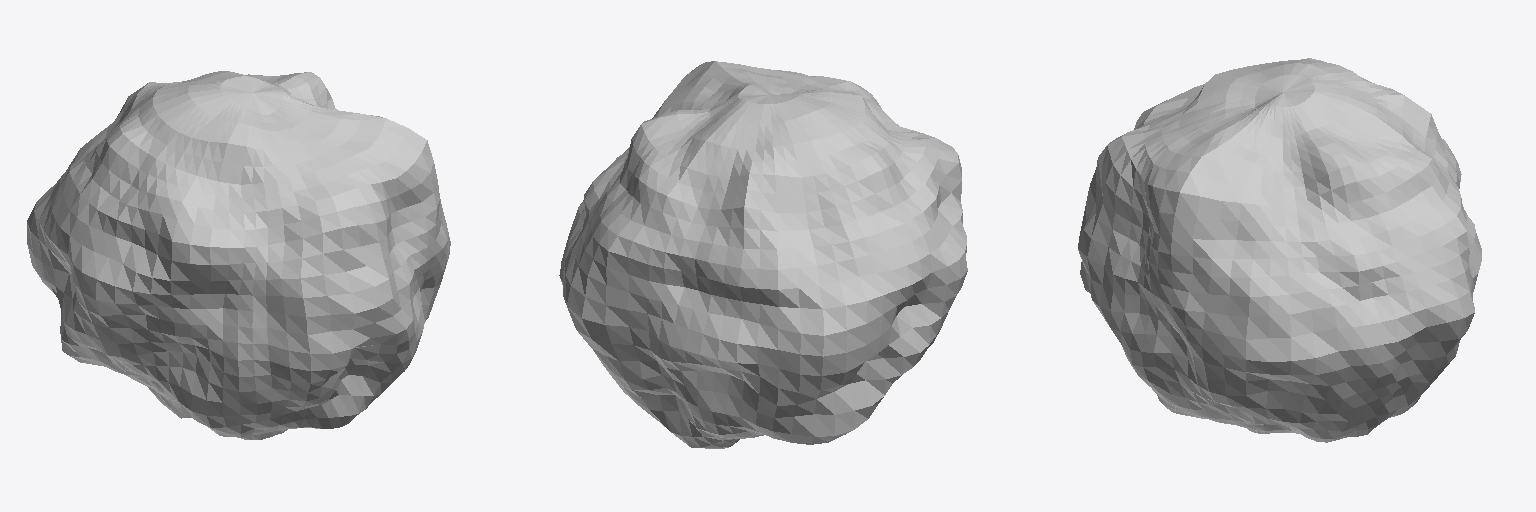
File: pedra2.obj
The picture shows the model from 3 angles: view 1: azimuth 30°, elevation 25°; view 2: azimuth 150°, elevation 25°; view 3: azimuth 270°, elevation 25°; orthographic projection.
Visible parts, largest first — view 1: Sphere_Sphere.001; view 2: Sphere_Sphere.001; view 3: Sphere_Sphere.001.
Part boxes in pixels (left/top/right/bottom): Sphere_Sphere.001: left=27, top=71, right=450, bottom=439; Sphere_Sphere.001: left=559, top=61, right=967, bottom=448; Sphere_Sphere.001: left=1078, top=58, right=1481, bottom=442.
Size of the model in its own units: 2.75 by 2.39 by 2.62.